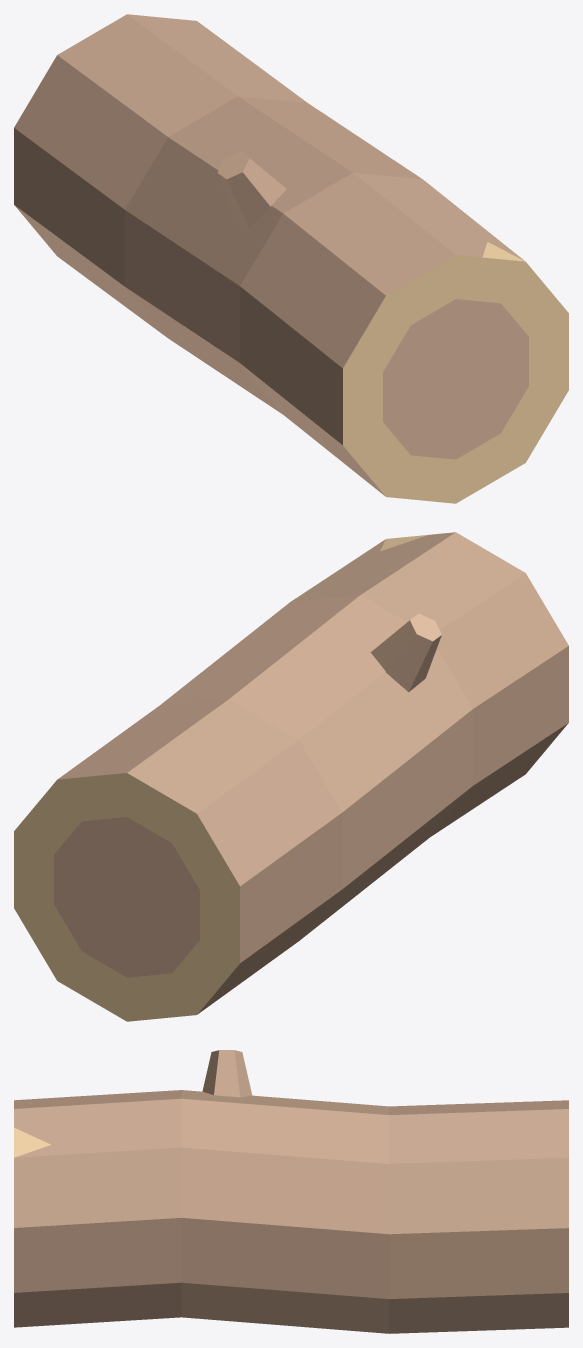
Rendered from Log 1.fbx.
3 views of the same model, one above another, from view 1: azimuth 30°, elevation 25°; view 2: azimuth 150°, elevation 25°; view 3: azimuth 270°, elevation 25° (orthographic). The views are drawn at different scales.
Visible parts, largest first — view 1: Log 1; view 2: Log 1; view 3: Log 1.
Boxes of the visible parts, x1,y1,x2,y2 form: Log 1: [14, 14, 568, 503]; Log 1: [14, 532, 568, 1021]; Log 1: [14, 1050, 568, 1333].
Bounding box in the file's own units: 0.0703 × 0.0811 × 0.1711.
